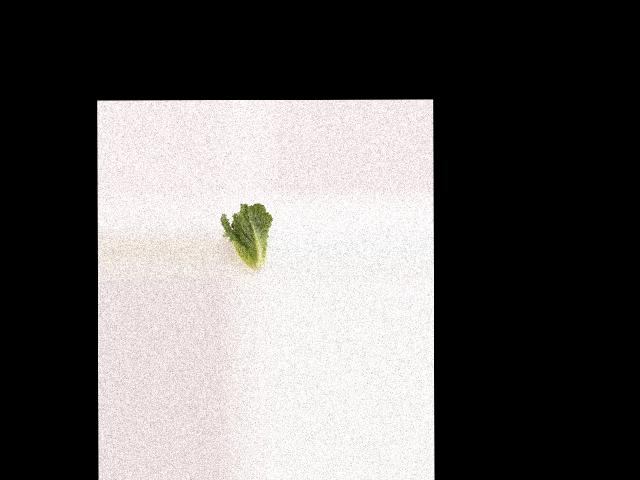lettuce: (223, 201, 274, 277)
